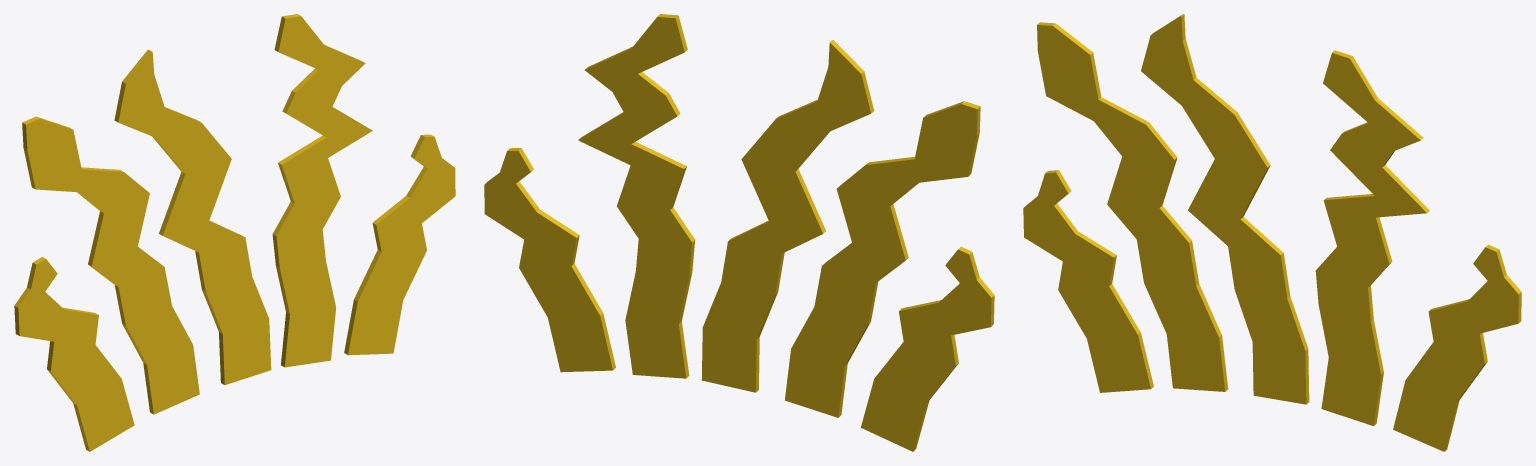
3 renders of one model, left to right at view 1: azimuth 30°, elevation 25°; view 2: azimuth 150°, elevation 25°; view 3: azimuth 330°, elevation 25°, orthographic. The views are drawn at different scales.
Parts seen in each view (by area): view 1: Plane.006; view 2: Plane.006; view 3: Plane.006.
Part boxes in pixels (box(x1,y1,x2,y2)): Plane.006: box(14, 14, 455, 451); Plane.006: box(484, 14, 994, 451); Plane.006: box(1023, 14, 1521, 451).
Bounding box in the file's own units: 1.07 × 0.838 × 0.1046.
